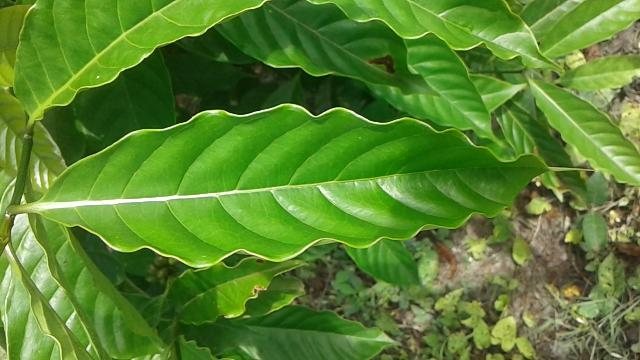healthy: (34, 102, 594, 268)
